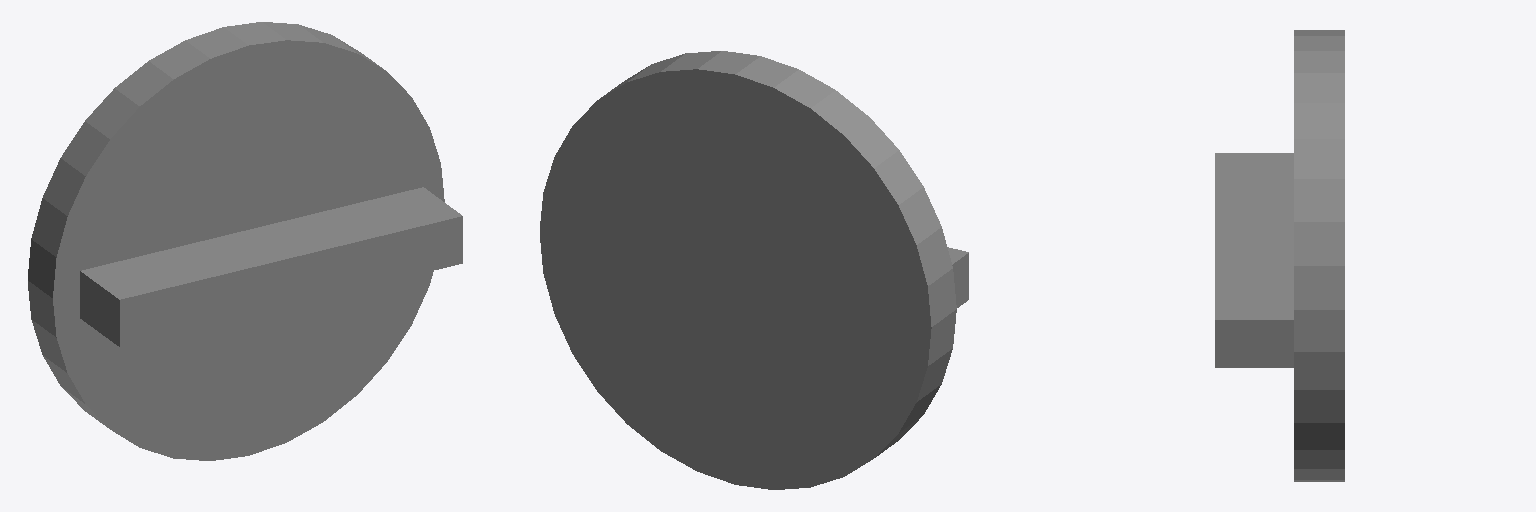
3 views of the same model, side by side, from view 1: azimuth 30°, elevation 25°; view 2: azimuth 150°, elevation 25°; view 3: azimuth 270°, elevation 25° (orthographic).
Parts seen in each view (by area): view 1: Base; view 2: Base; view 3: Base.
Boxes of the visible parts, <box> form: Base: <box>28,22,462,460</box>; Base: <box>540,51,968,489</box>; Base: <box>1215,30,1344,481</box>.
Bounding box in the file's own units: 0.1 × 0.1 × 0.0287.
Materials: 1 (1 with a texture image).